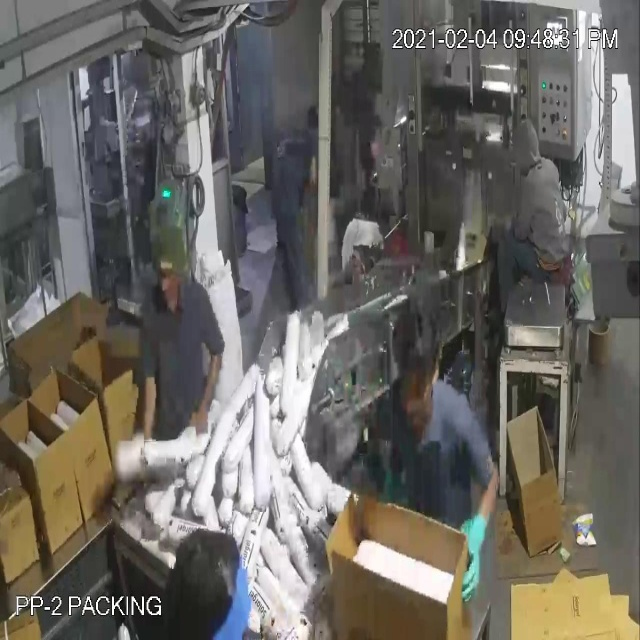Guantes: (452, 500, 498, 601)
Sin_guantes: (184, 332, 226, 446), (132, 363, 164, 467)
